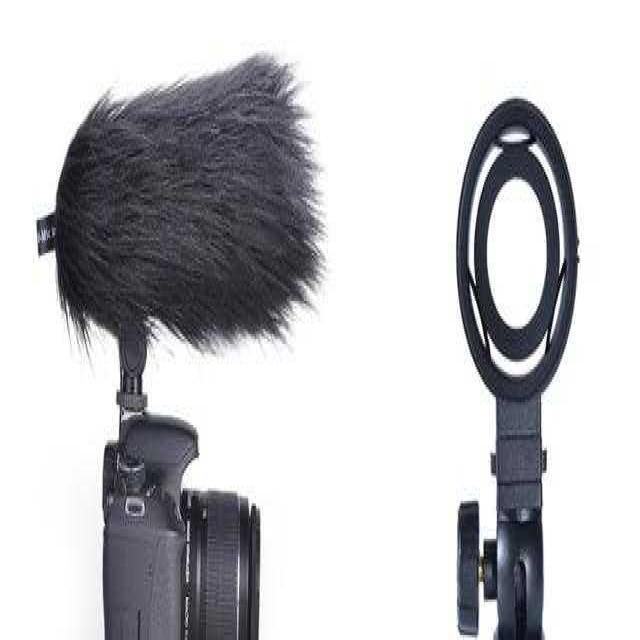microphone: (51, 51, 336, 410)
